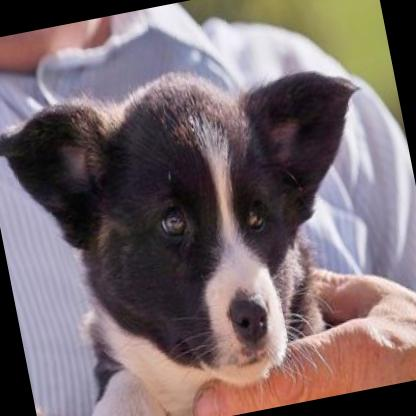Cardigan: (0, 31, 415, 416)
